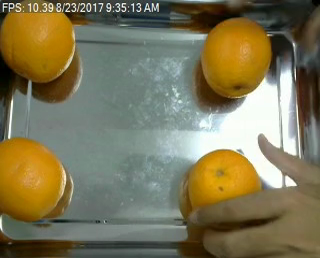Orange: (1, 1, 76, 82), (200, 17, 272, 97), (1, 136, 66, 220)
